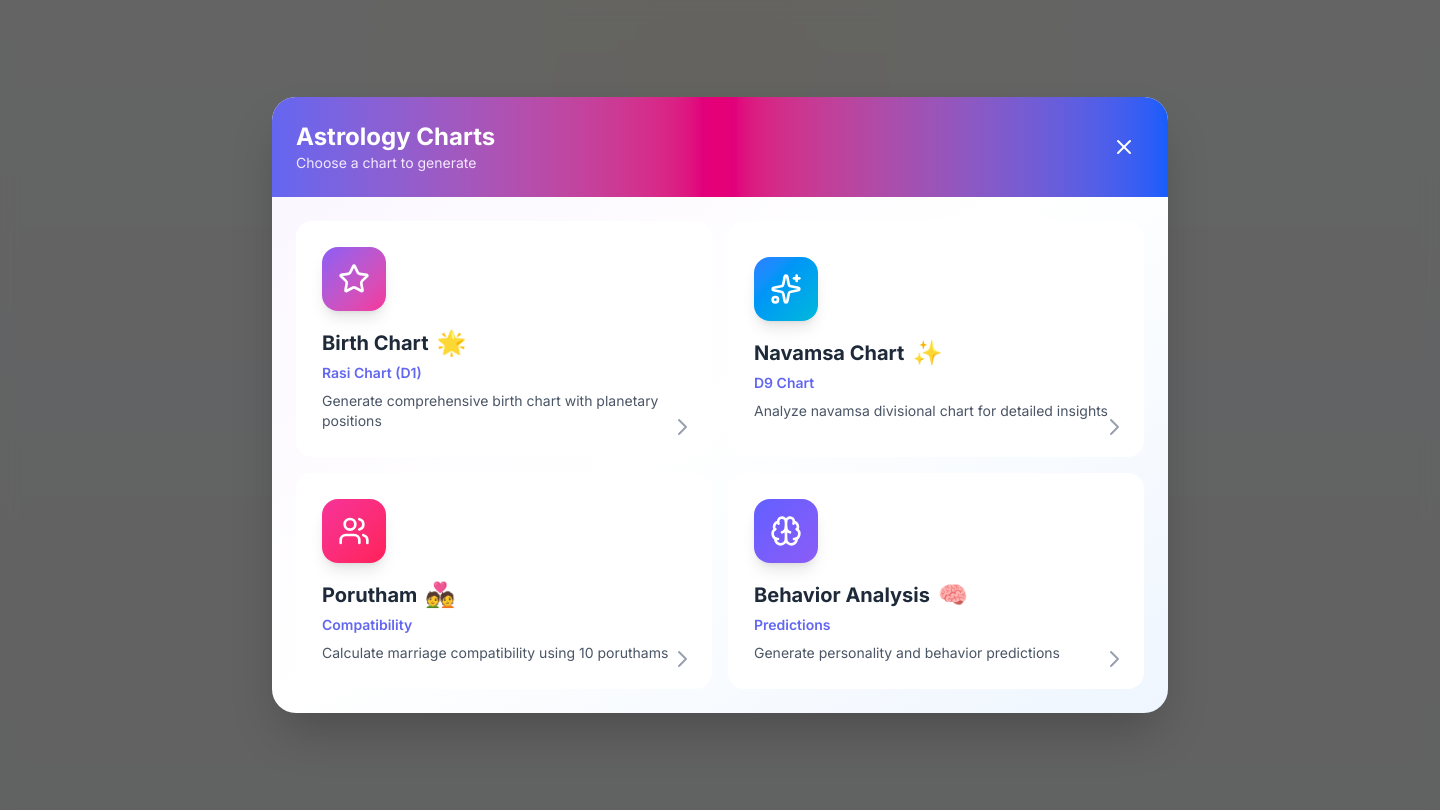
Scenario: ChartModal Component › should show Navamsa Chart form when Navamsa option is clicked
What coordinates should you click on to do the following:
click the button "Navamsa Chart"
I would click on:
 (936, 339)
Its box is [728, 221, 1144, 457].
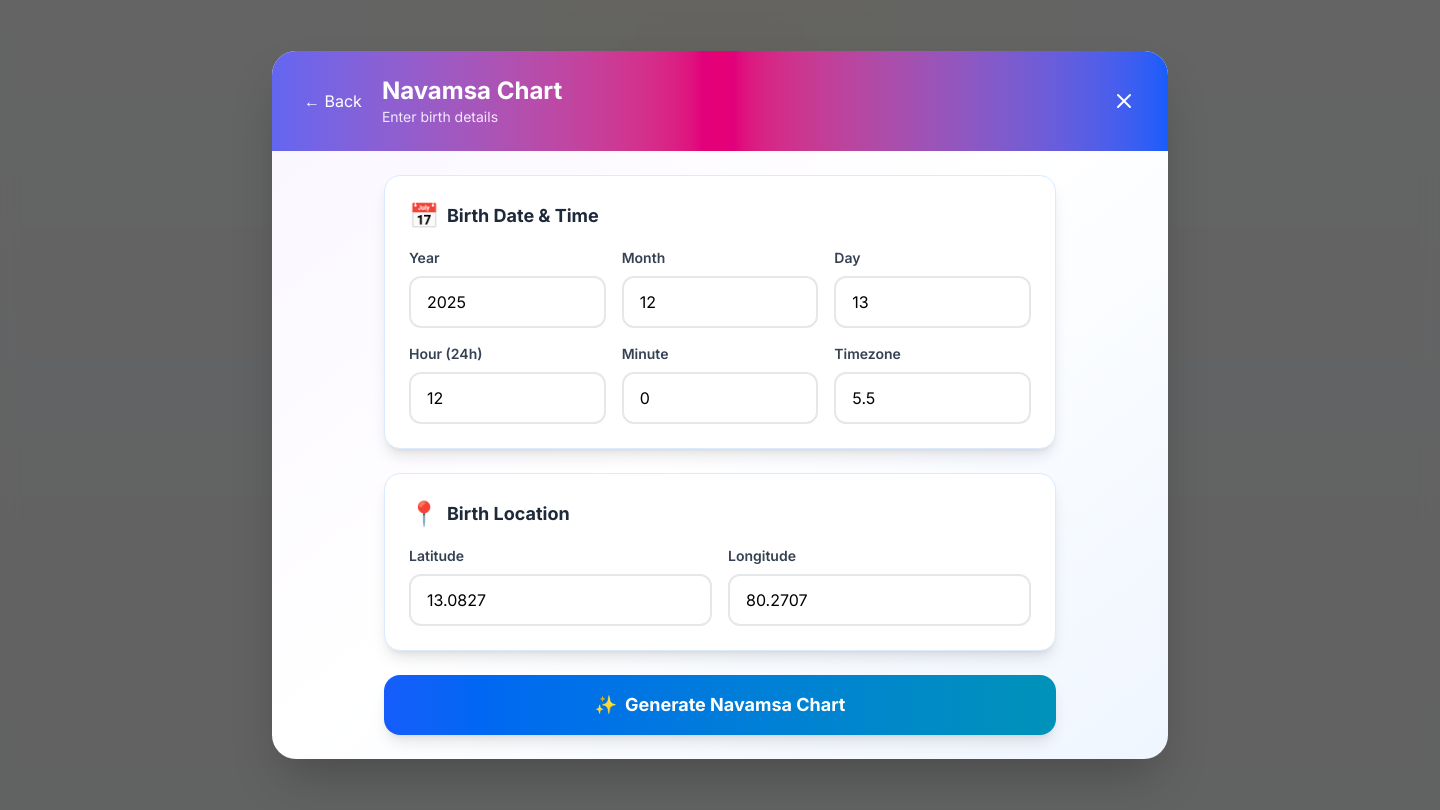
Expected: the heading "Navamsa Chart" is shown, [382, 75, 562, 107]
Expected: the text "Enter birth details" is shown, [382, 108, 498, 125]
